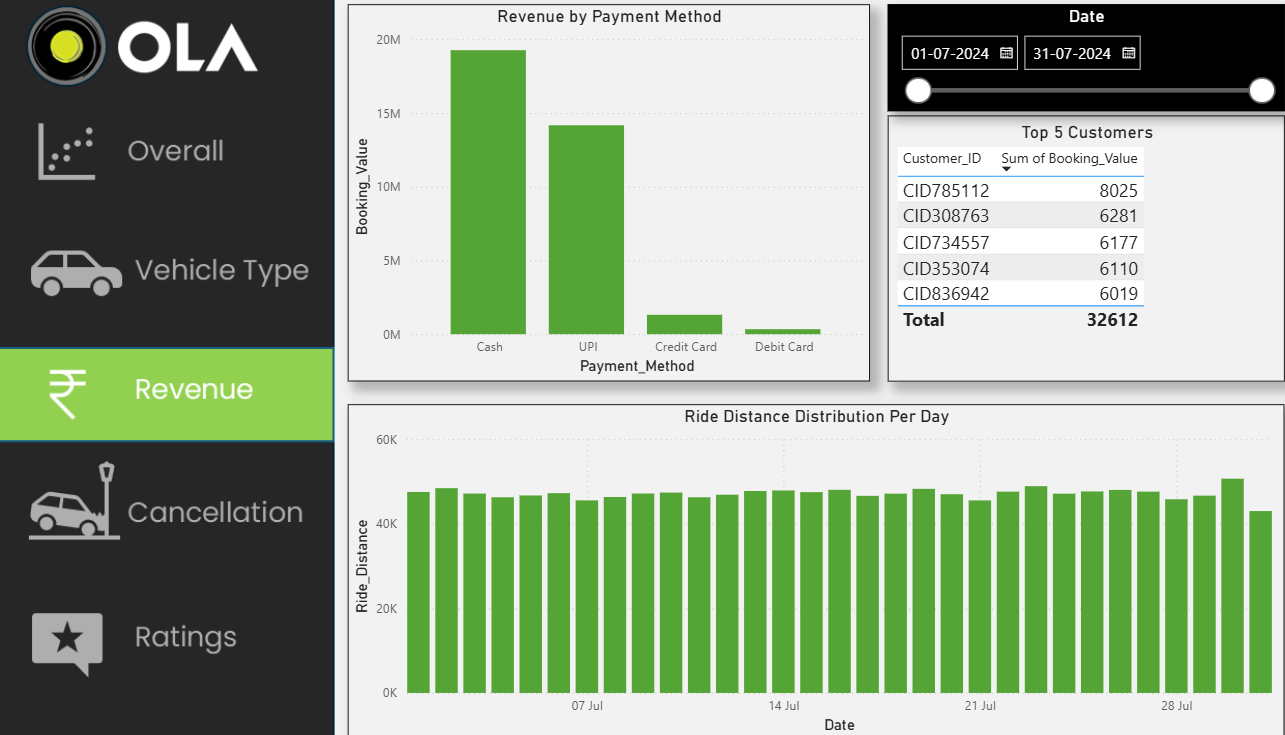

The dashboard page shown, as its layout file describes it:
{"tool":"powerbi","page":{"name":"Revenue","canvas":[1280,720],"ordinal":2},"visuals":[{"type":"actionButton","box":[0,225.6,324.5,91.7],"z":0},{"type":"actionButton","box":[0,458.4,324.5,91.7],"z":1000},{"type":"columnChart","title":"Revenue by Payment Method","fields":{"Category":["July.Payment_Method"],"Y":["Sum(July.Booking_Value)"]},"box":[336.2,11,503.6,363.6],"z":2000},{"type":"columnChart","title":"Ride Distance Distribution Per Day","fields":{"Category":["July.Date"],"Y":["Sum(July.Ride_Distance)"]},"box":[336.2,396.6,904.3,323.8],"z":3000},{"type":"slicer","title":"Date","fields":{"Values":["July.Date"]},"box":[857.6,11,382.8,102.9],"z":4000},{"type":"tableEx","title":"Top 5 Customers","fields":{"Values":["July.Customer_ID","Sum(July.Booking_Value)"]},"box":[857.6,118,382.8,256.6],"z":5000}]}

Visuals, with their boxes on the page's 1280x720 design canvas (x1, y1, x2, y2). These are canvas units, not pixel positions in the 1285x735 screenshot, which may show the page scaled, cropped or inside an application window:
actionButton: locate(0, 226, 324, 317)
actionButton: locate(0, 458, 324, 550)
"Revenue by Payment Method" columnChart: locate(336, 11, 840, 375)
"Ride Distance Distribution Per Day" columnChart: locate(336, 397, 1240, 720)
"Date" slicer: locate(858, 11, 1240, 114)
"Top 5 Customers" tableEx: locate(858, 118, 1240, 375)
